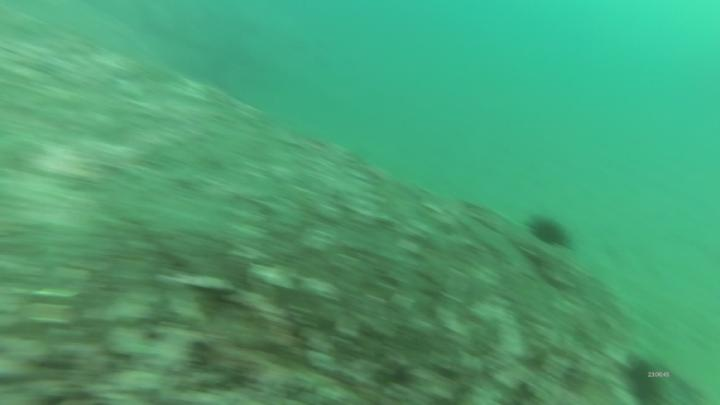echinus: (623, 353, 665, 405), (524, 213, 570, 251)
